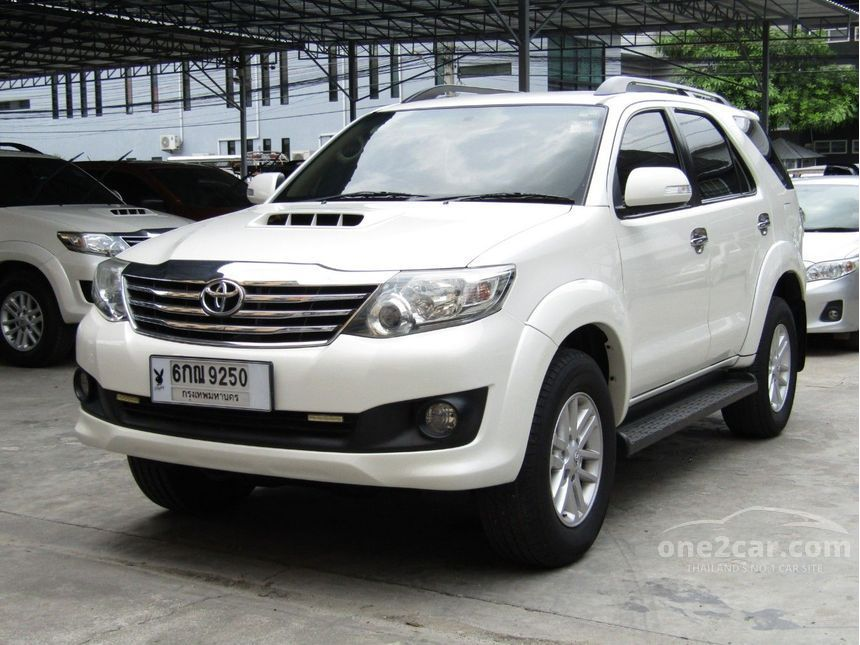pickup: (75, 75, 809, 567)
